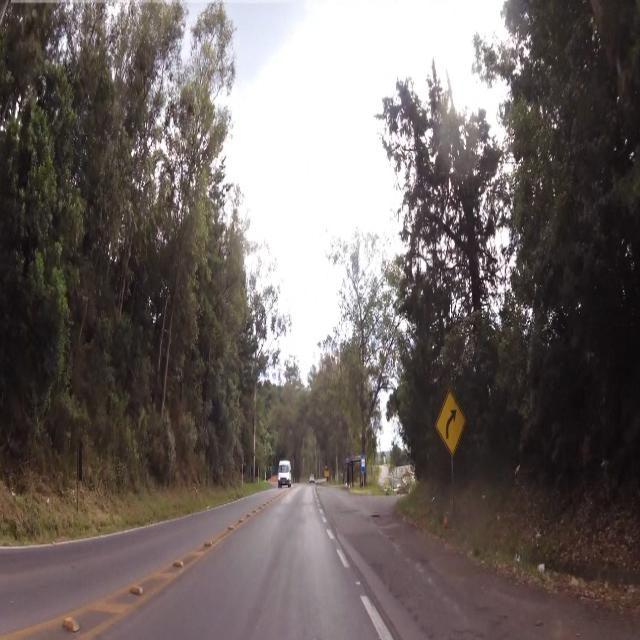A-2b: (433, 386, 469, 464)
